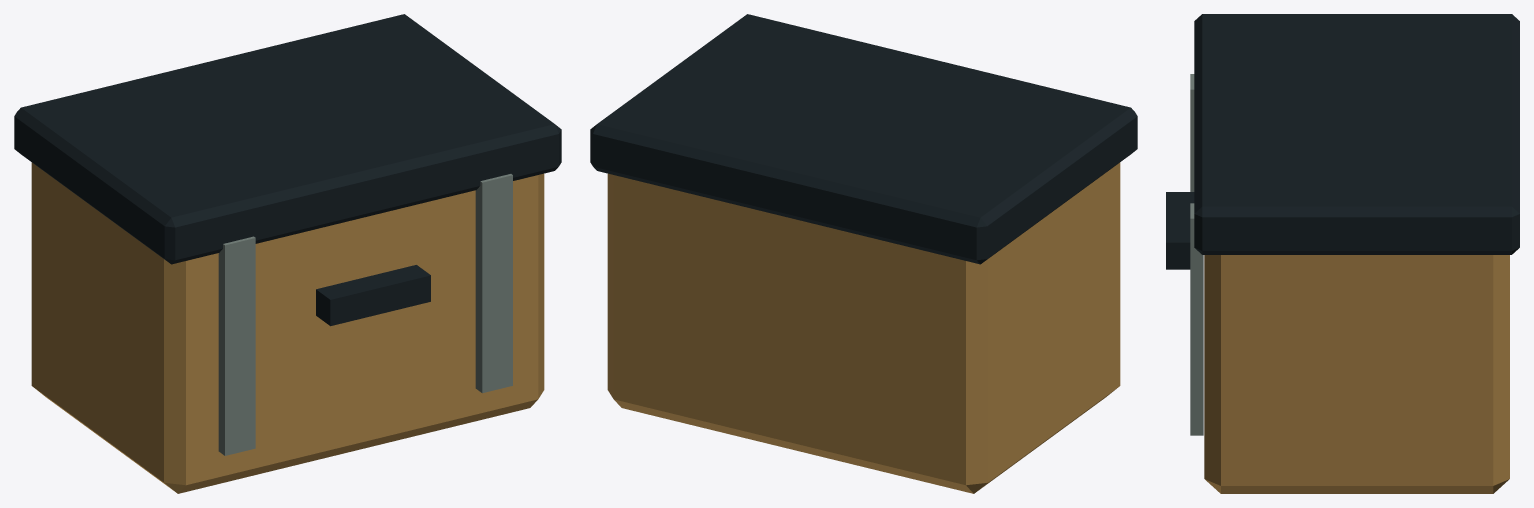
File: transit_case.glb
The picture shows the model from 3 angles, left to right: view 1: azimuth 30°, elevation 25°; view 2: azimuth 150°, elevation 25°; view 3: azimuth 270°, elevation 25°; orthographic projection. The views are drawn at different scales.
Parts seen in each view (by area): view 1: transit_case; view 2: transit_case; view 3: transit_case.
Boxes of the visible parts, x1,y1,x2,y2 form: transit_case: (14, 14, 561, 493); transit_case: (590, 14, 1137, 493); transit_case: (1166, 14, 1519, 493).
Bounding box in the file's own units: 0.71 × 0.49 × 0.5325.
